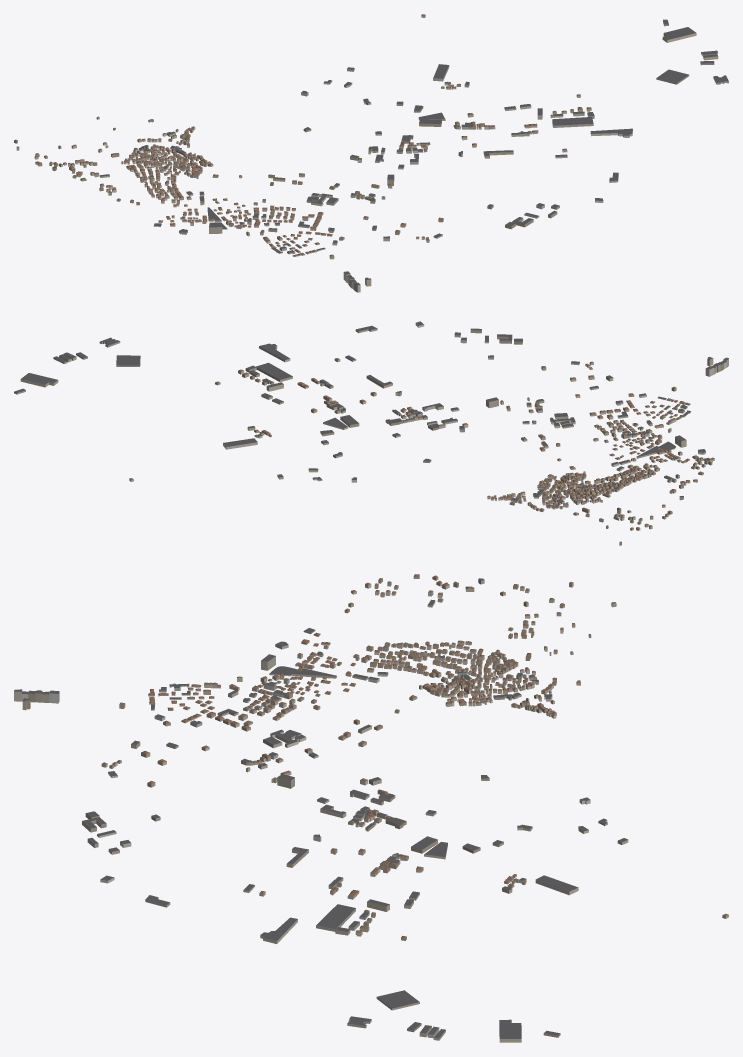
Rendered from buildings.glb.
The picture shows the model from 3 angles, top to bottom: view 1: azimuth 30°, elevation 25°; view 2: azimuth 150°, elevation 25°; view 3: azimuth 270°, elevation 25°; orthographic projection. The views are drawn at different scales.
Parts seen in each view (by area): view 1: chunk_-4_-1, chunk_-4_1, chunk_-4_0, chunk_2_1, chunk_-3_1, chunk_-1_0, chunk_0_0, chunk_-3_2, chunk_-4_2, chunk_4_0, chunk_-5_0; view 2: chunk_-4_-1, chunk_-4_1, chunk_-4_0, chunk_2_1, chunk_-1_0, chunk_0_0, chunk_-3_1, chunk_-3_2, chunk_-4_2, chunk_4_0, chunk_-5_0; view 3: chunk_-4_-1, chunk_-4_1, chunk_-4_0, chunk_-1_0, chunk_2_1, chunk_-3_1, chunk_-5_0, chunk_0_0, chunk_-3_2, chunk_4_0, chunk_-4_2.
Part boxes in pixels (x1,y1,x2,y2): chunk_-4_-1: (111,144,201,178); chunk_-4_1: (183,198,271,233); chunk_-4_0: (144,167,218,206); chunk_2_1: (552,112,632,137); chunk_-3_1: (253,181,332,222); chunk_-1_0: (350,131,423,162); chunk_0_0: (416,112,472,152); chunk_-3_2: (283,212,344,245); chunk_-4_2: (246,222,307,254); chunk_4_0: (656,61,728,84); chunk_-5_0: (90,172,176,207); chunk_-4_-1: (533,475,621,513); chunk_-4_1: (609,426,686,462); chunk_-4_0: (565,457,653,485); chunk_2_1: (245,343,292,382); chunk_-1_0: (385,409,468,437); chunk_0_0: (323,399,412,429); chunk_-3_1: (538,417,632,443); chunk_-3_2: (589,393,656,424); chunk_-4_2: (632,404,691,432); chunk_4_0: (76,337,140,366); chunk_-5_0: (626,457,714,484); chunk_-4_-1: (438,648,538,700); chunk_-4_1: (249,654,349,701); chunk_-4_0: (345,649,443,700); chunk_-1_0: (350,777,436,829); chunk_2_1: (260,904,355,943); chunk_-3_1: (249,698,346,747); chunk_-5_0: (344,582,443,658); chunk_0_0: (348,820,447,866); chunk_-3_2: (154,703,253,731); chunk_4_0: (347,990,421,1032); chunk_-4_2: (158,676,250,704).
Bounding box in the file's own units: 2641 × 146 × 1883.
